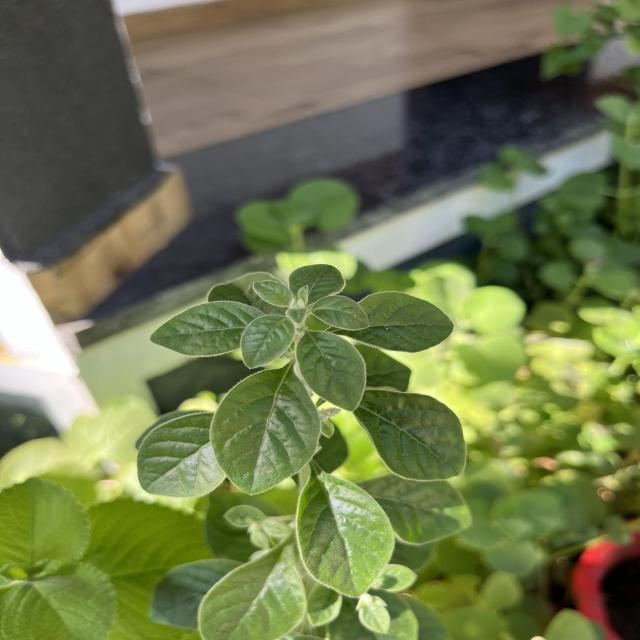Aerva lanata: (205, 356, 324, 498), (294, 457, 401, 601), (351, 388, 471, 484), (131, 407, 229, 500), (340, 287, 458, 355), (148, 298, 267, 360), (292, 326, 368, 416), (236, 311, 300, 371)
